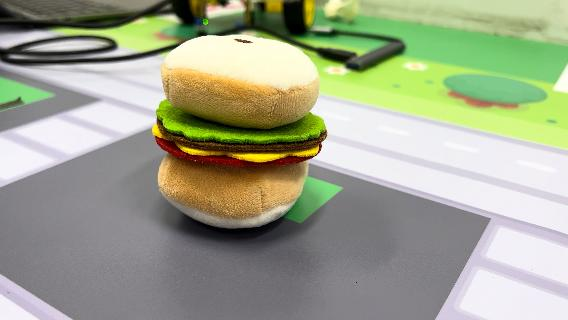sandwich: (151, 32, 329, 230)
